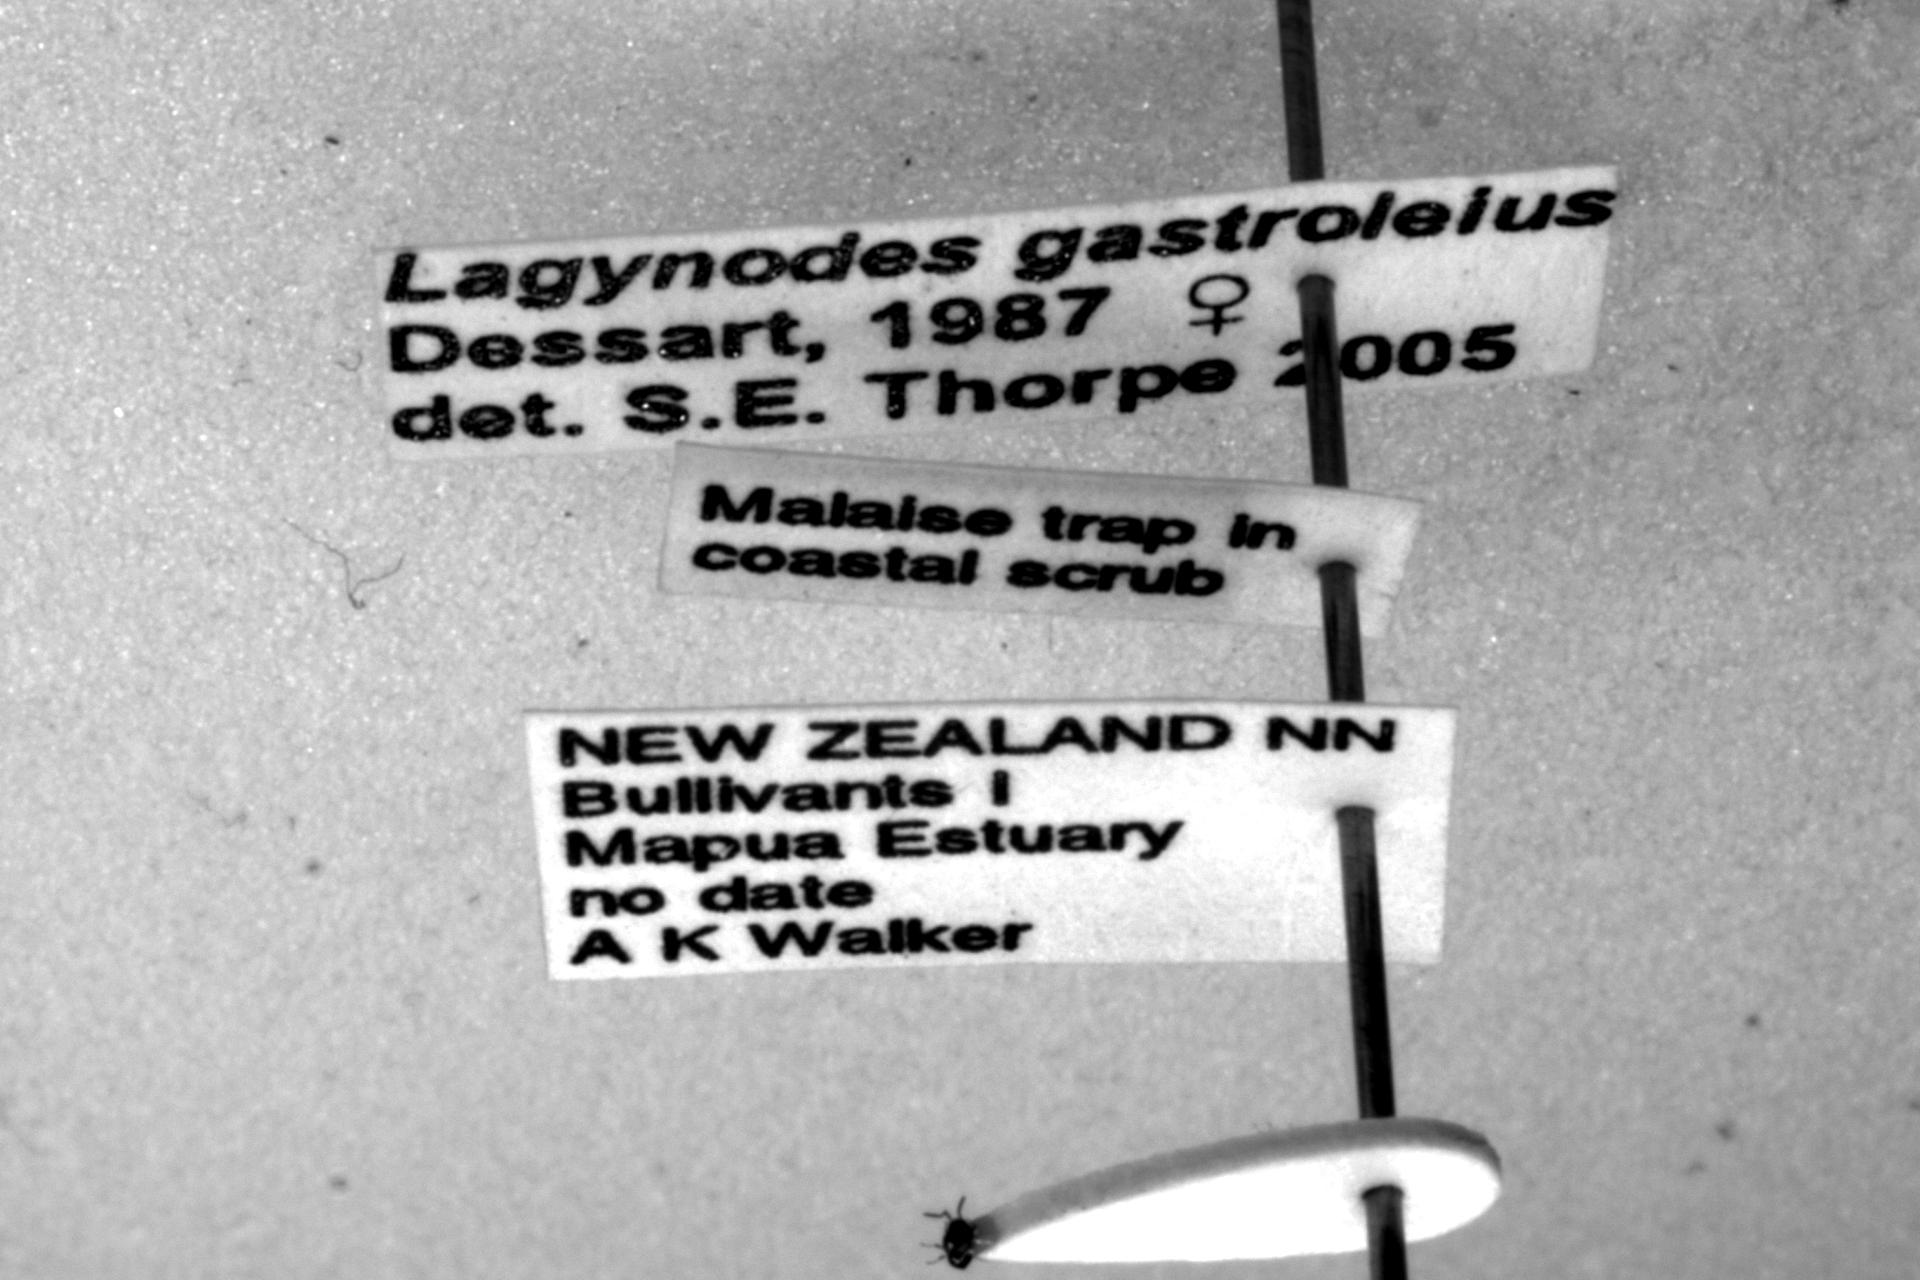typed_label: (374, 166, 1616, 457), (526, 701, 1454, 979), (660, 446, 1421, 634)
